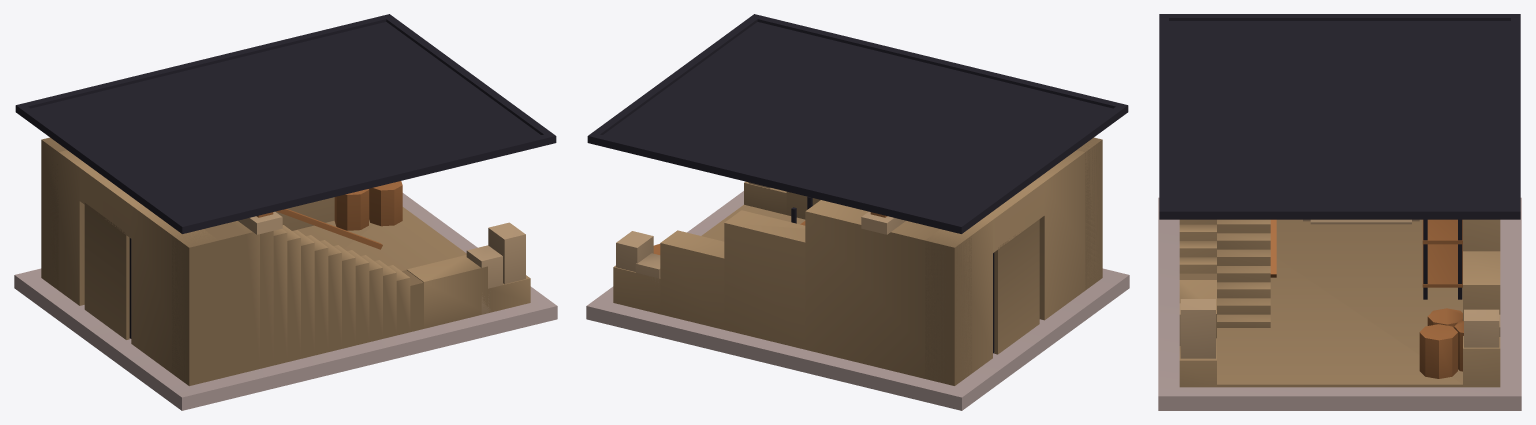
The picture shows the model from 3 angles, left to right: view 1: azimuth 30°, elevation 25°; view 2: azimuth 150°, elevation 25°; view 3: azimuth 270°, elevation 25°; orthographic projection. The views are drawn at different scales.
Parts seen in each view (by area): view 1: roof_pal_uiDark, body_pal_khaki, body_pal_sidewalk, body_pal_woodWarm, body_pal_khakiLight; view 2: roof_pal_uiDark, body_pal_khaki, body_pal_sidewalk, body_pal_khakiLight; view 3: roof_pal_uiDark, body_pal_khaki, body_pal_sidewalk, body_pal_woodWarm, body_pal_khakiLight, body_pal_uiDark.
Boxes of the visible parts, bbox=[...] form: roof_pal_uiDark: bbox=[15, 14, 556, 233]; body_pal_khaki: bbox=[41, 137, 530, 385]; body_pal_sidewalk: bbox=[14, 193, 557, 410]; body_pal_woodWarm: bbox=[257, 181, 402, 249]; body_pal_khakiLight: bbox=[238, 211, 525, 314]; roof_pal_uiDark: bbox=[587, 14, 1128, 233]; body_pal_khaki: bbox=[613, 137, 1102, 385]; body_pal_sidewalk: bbox=[586, 191, 1129, 410]; body_pal_khakiLight: bbox=[616, 182, 905, 287]; roof_pal_uiDark: bbox=[1159, 14, 1520, 219]; body_pal_khaki: bbox=[1179, 219, 1500, 387]; body_pal_sidewalk: bbox=[1158, 197, 1521, 410]; body_pal_woodWarm: bbox=[1270, 219, 1463, 378]; body_pal_khakiLight: bbox=[1179, 219, 1500, 358]; body_pal_uiDark: bbox=[1423, 219, 1462, 299].
Size of the model in its own units: 8.8 by 4.11 by 6.8.
